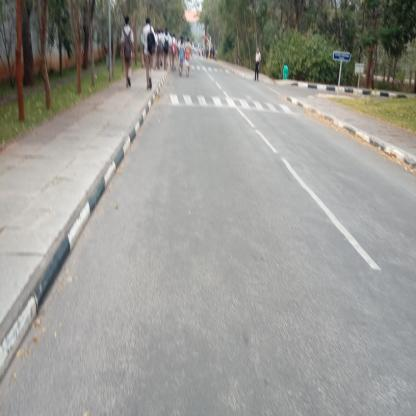speed-bumps: (156, 91, 302, 118), (191, 59, 237, 75)
